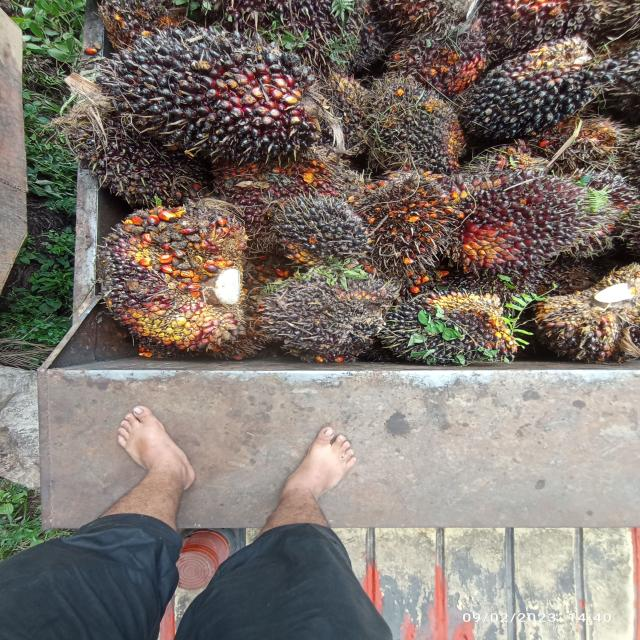fraksi 00: (102, 28, 322, 196), (76, 196, 289, 351), (466, 158, 614, 271), (478, 44, 620, 147), (255, 273, 413, 361), (352, 70, 460, 168), (387, 293, 519, 370), (274, 193, 372, 253)
fraksi 4: (371, 176, 463, 266)
